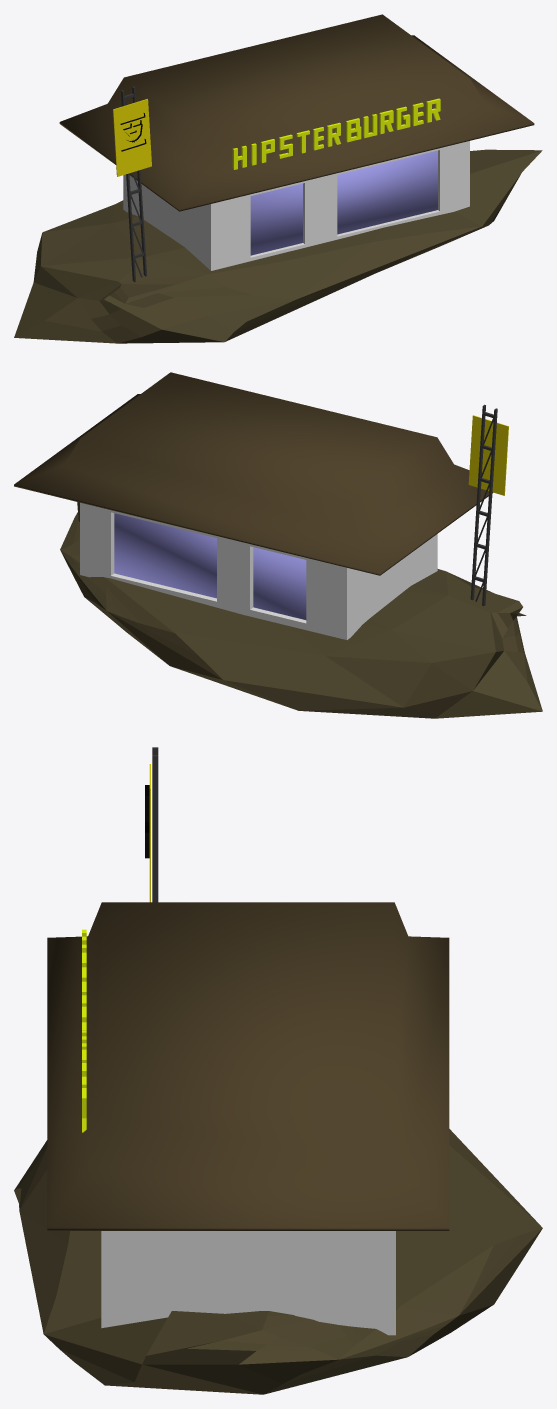
File: MCdonald.fbx
3 views of the same model, one above another, from view 1: azimuth 30°, elevation 25°; view 2: azimuth 150°, elevation 25°; view 3: azimuth 270°, elevation 25° (orthographic). The views are drawn at different scales.
Visible parts, largest first — view 1: 01 Toiture 01, 01 Rocher 01, 01 Façade 01, Cube.066, 01 Enseigne 01, 01 Enseigne 03, 01 Enseigne 02; view 2: 01 Toiture 01, 01 Rocher 01, 01 Façade 01, Cube.065, 01 Enseigne 03, 01 Enseigne 02; view 3: 01 Toiture 01, 01 Rocher 01, 01 Façade 01, 01 Enseigne 02, 01 Enseigne 01.
Boxes of the visible parts, x1,y1,x2,y2 form: 01 Toiture 01: (59,14,534,211); 01 Rocher 01: (14,149,542,343); 01 Façade 01: (123,141,469,270); Cube.066: (250,150,437,255); 01 Enseigne 01: (232,98,440,169); 01 Enseigne 03: (113,99,151,176); 01 Enseigne 02: (121,86,147,282); 01 Toiture 01: (14,372,493,575); 01 Rocher 01: (60,502,542,718); 01 Façade 01: (80,502,437,639); Cube.065: (114,513,306,619); 01 Enseigne 03: (468,415,508,495); 01 Enseigne 02: (470,404,497,606); 01 Toiture 01: (47,902,449,1230); 01 Rocher 01: (14,1129,542,1394); 01 Façade 01: (101,1231,395,1335); 01 Enseigne 02: (152,747,158,902); 01 Enseigne 01: (82,929,86,1132).
Size of the model in its own units: 160 by 77.79 by 88.25.
